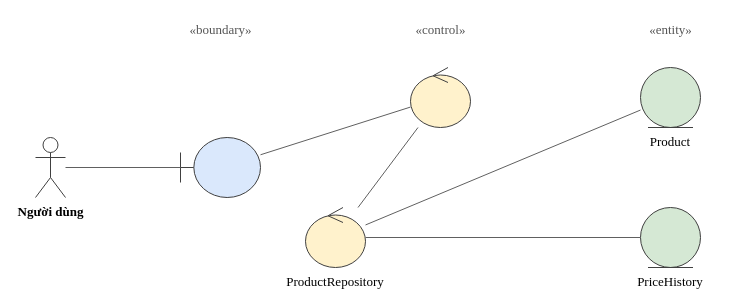
This 747x307 diagram has some shape labels left out. The shapes that lost their labels are listed below. From the top down, each one's centre as x and y in pixels, then its label:
pixel 440 97: ProductController
pixel 220 167: PriceHistoryChart
